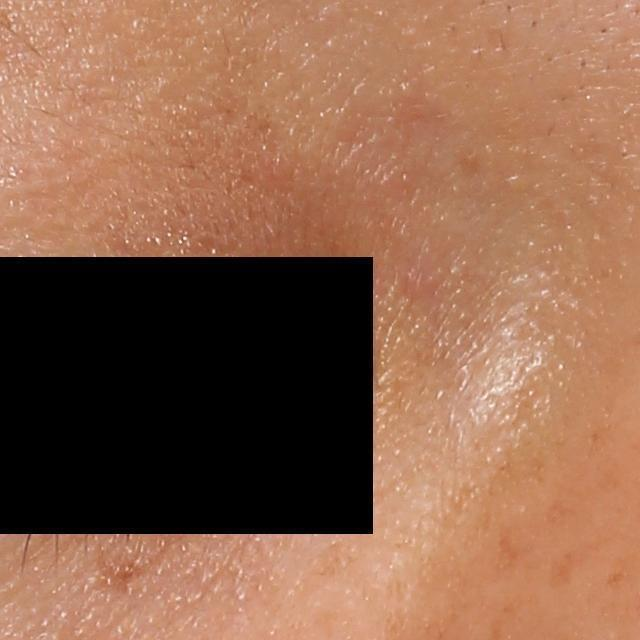melasma: (92, 549, 170, 601), (547, 550, 587, 589), (497, 523, 524, 562), (602, 568, 629, 588)
